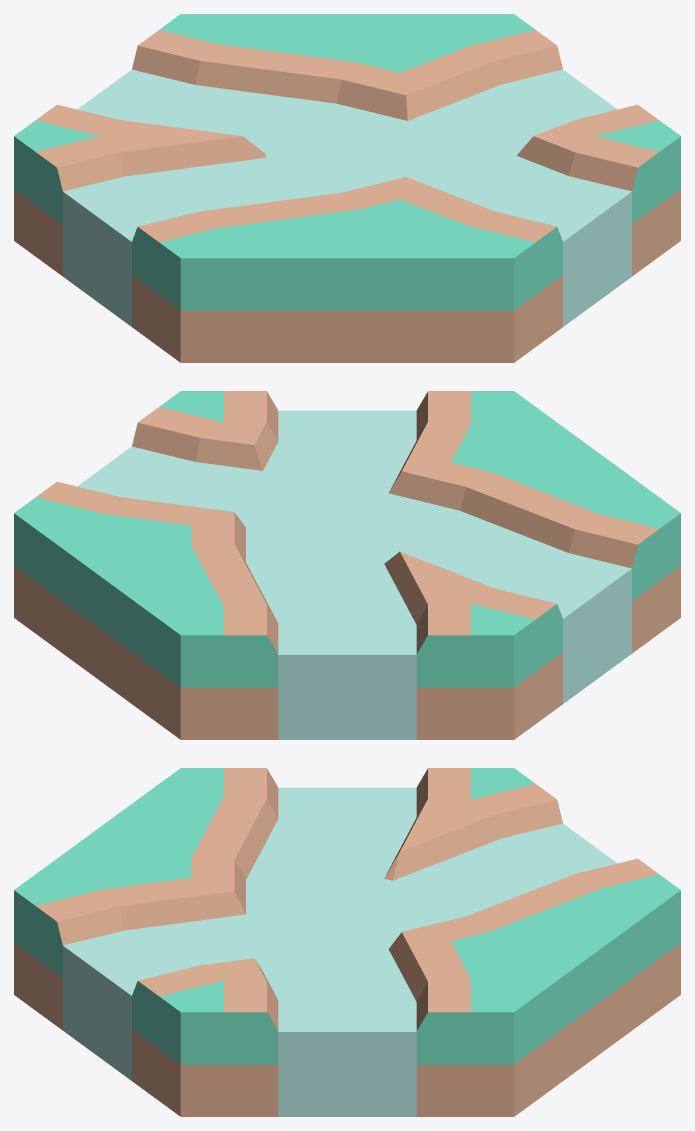
The model's file is river_intersectionE.glb.
3 renders of one model, top to bottom at view 1: azimuth 30°, elevation 25°; view 2: azimuth 150°, elevation 25°; view 3: azimuth 270°, elevation 25°, orthographic.
Parts seen in each view (by area): view 1: river_intersectionE; view 2: river_intersectionE; view 3: river_intersectionE.
Boxes of the visible parts, <box> form: river_intersectionE: <box>14,14,680,362</box>; river_intersectionE: <box>14,391,680,739</box>; river_intersectionE: <box>14,768,680,1116</box>.
Size of the model in its own units: 1 by 0.2 by 1.15.
